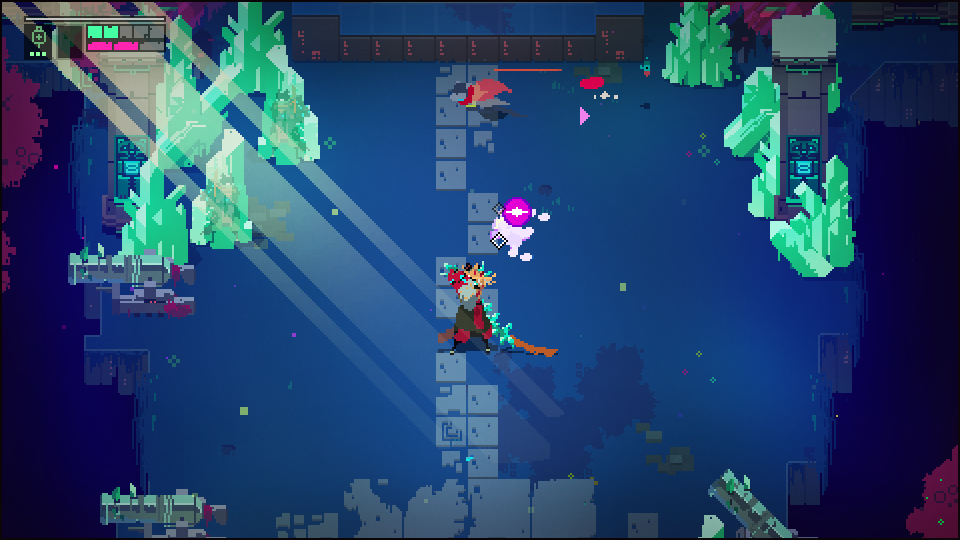hanged_man: (436, 260, 522, 361)
hanged_shot: (502, 196, 534, 233)
player: (448, 76, 517, 121)
